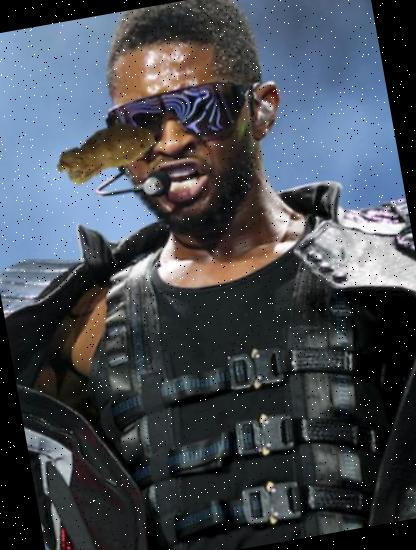Ginger: (44, 90, 167, 212)
